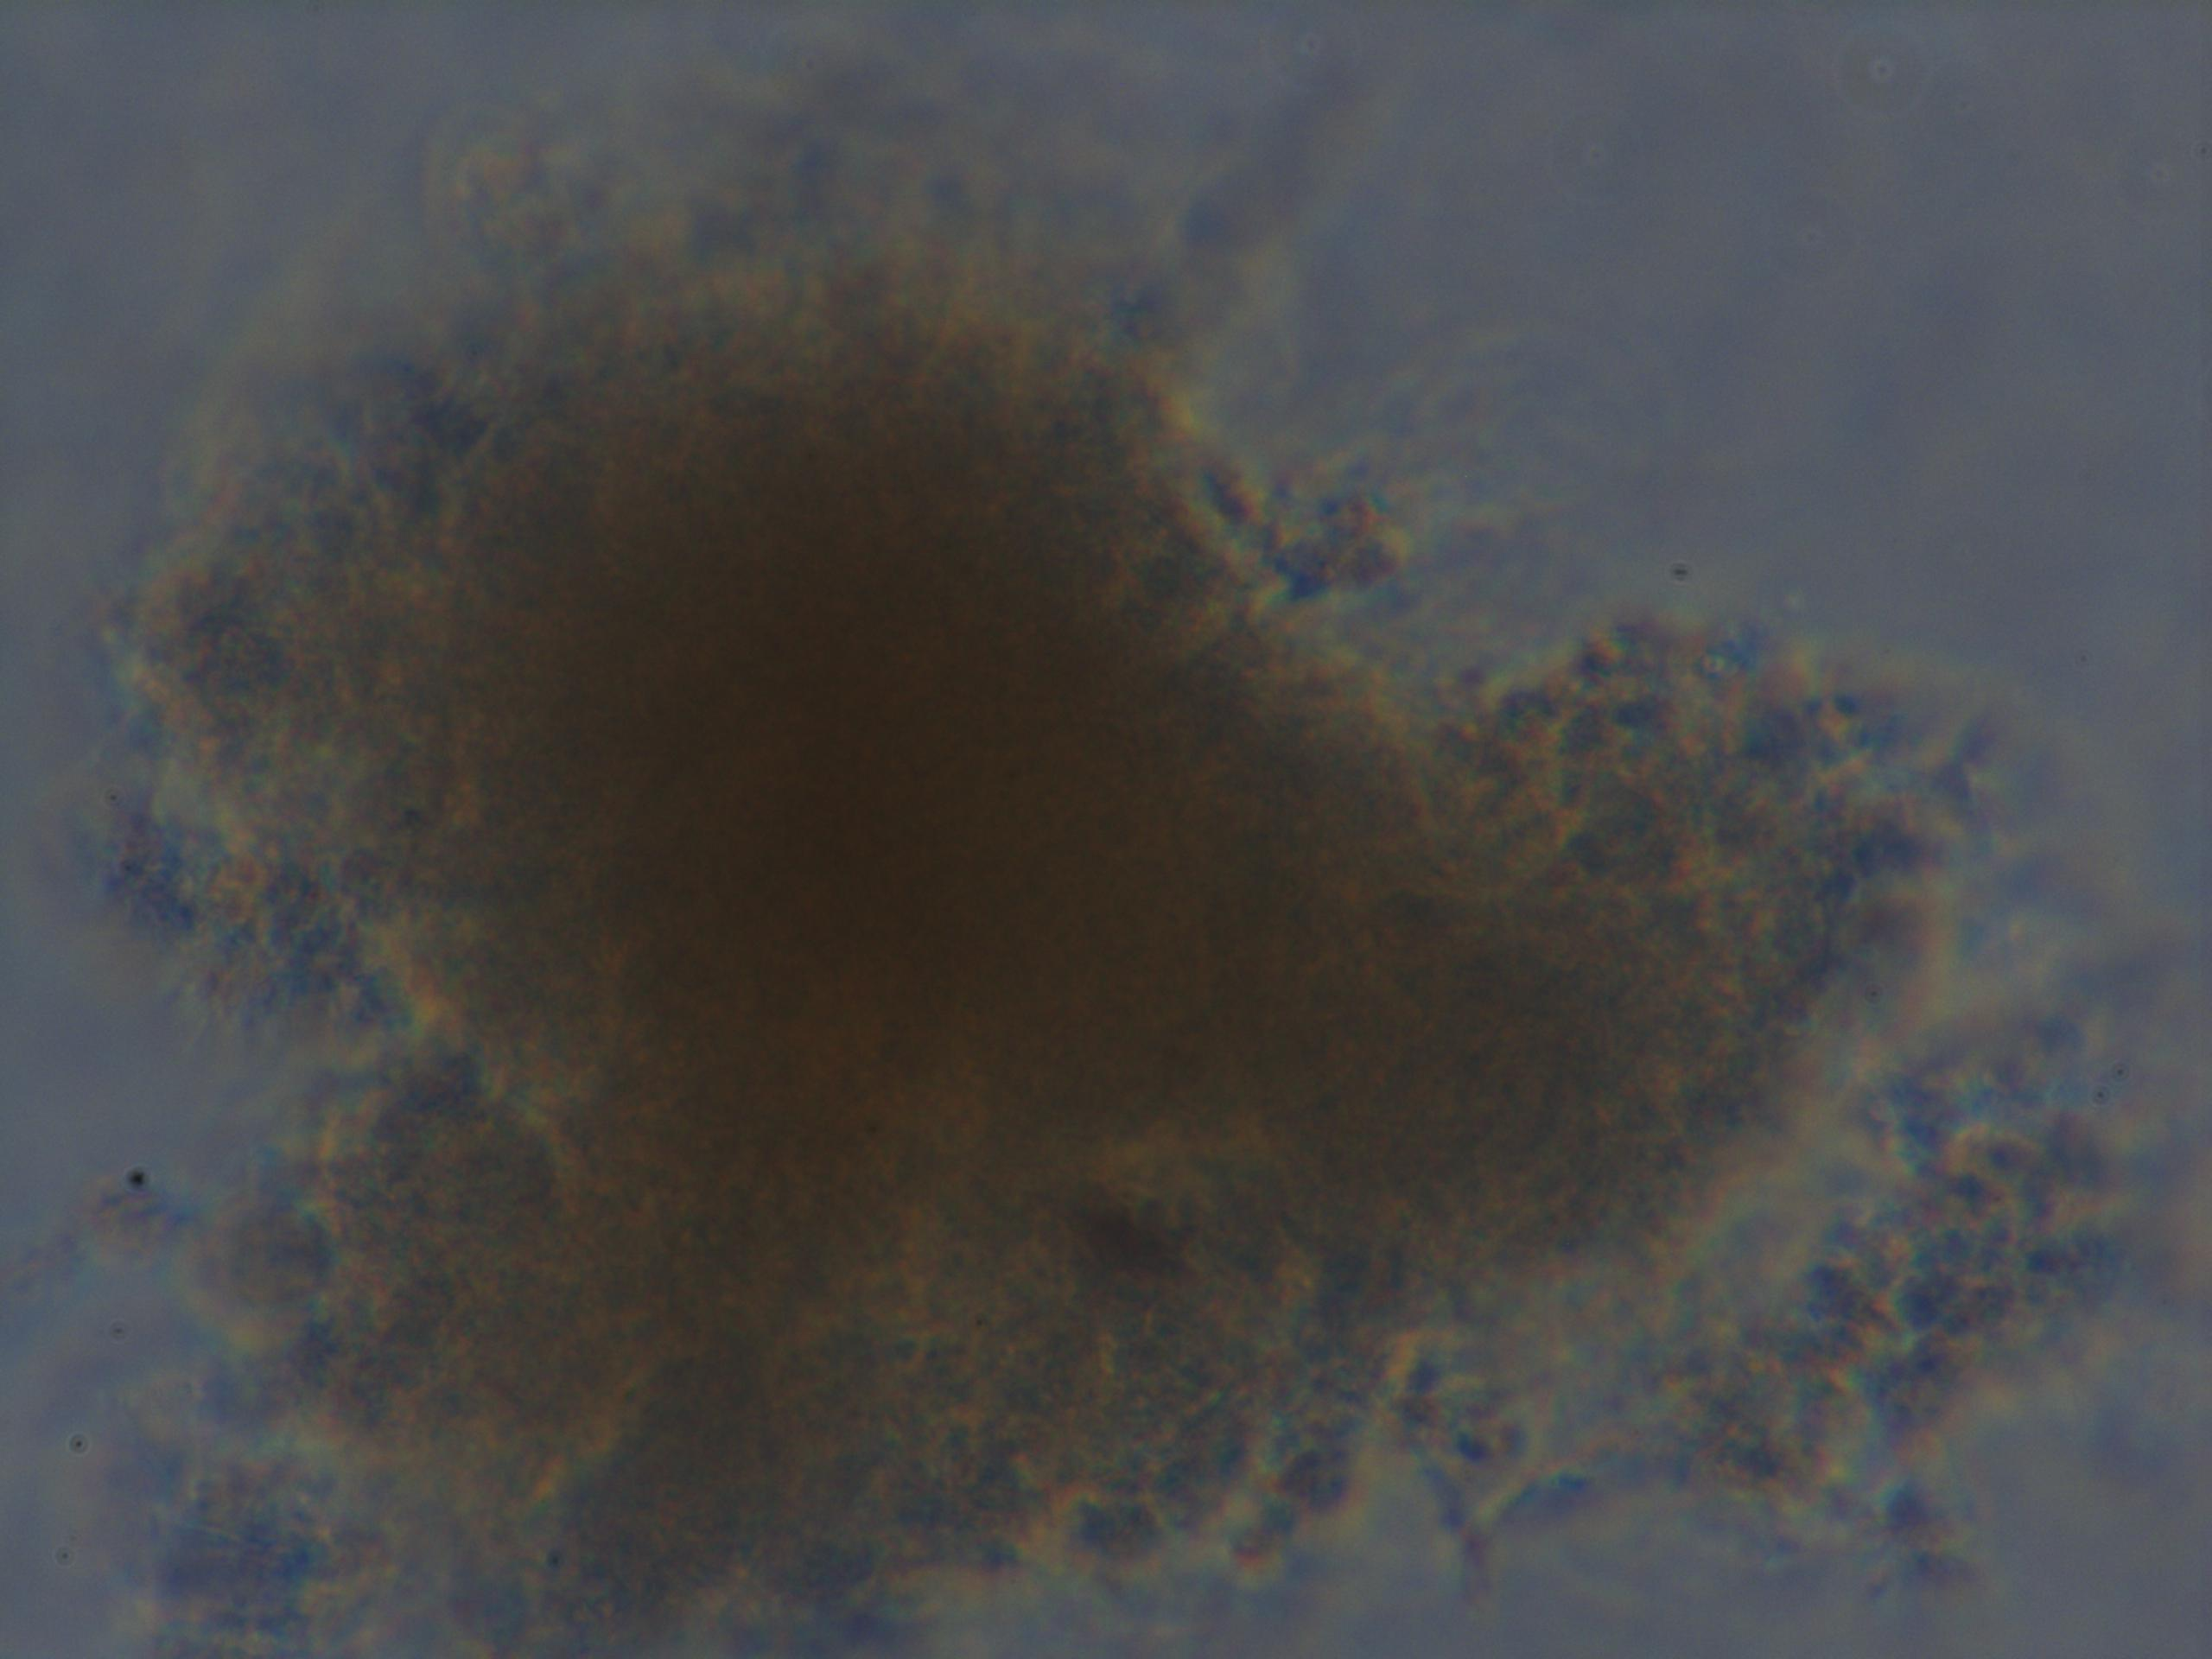spherical_floc: (84, 207, 1918, 1643)
